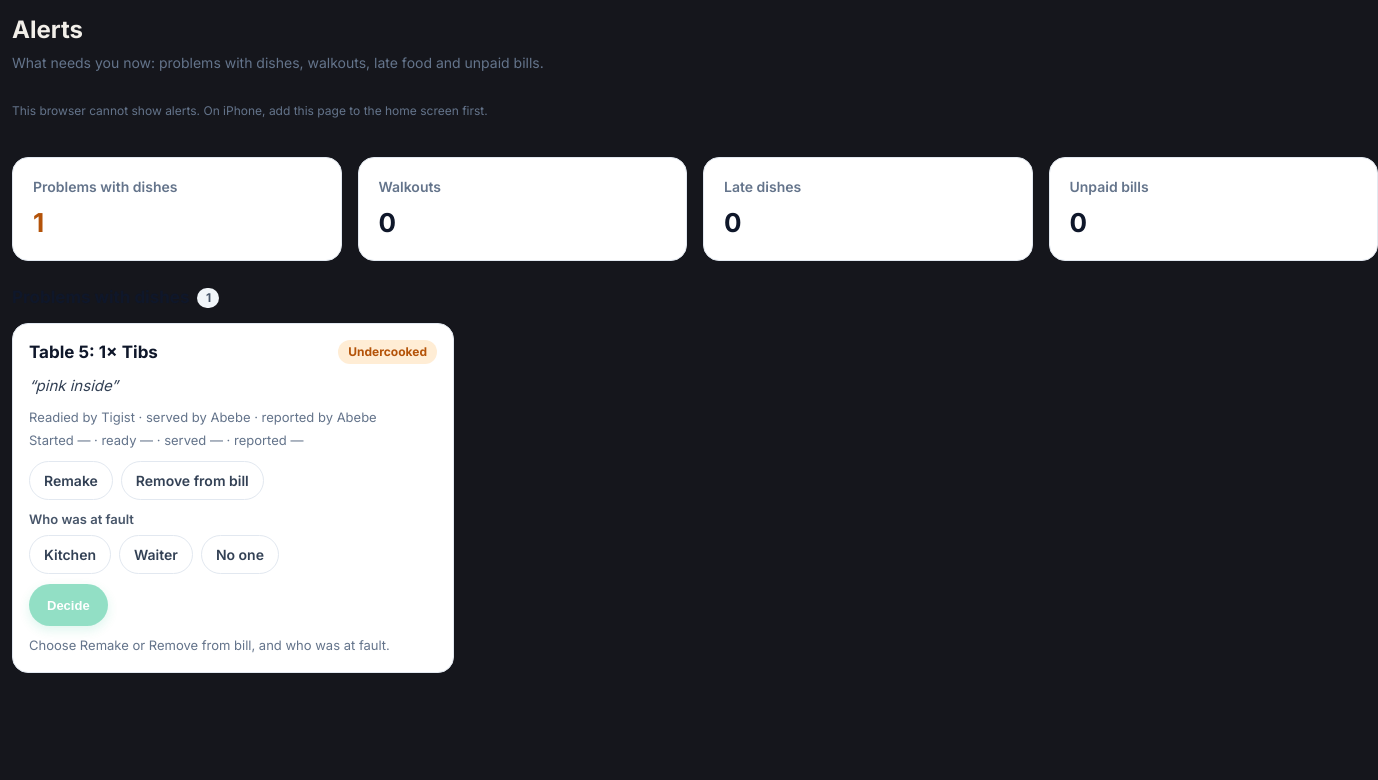
Test case: DecisionsScreen › explains plainly when a paid bill cannot lose a dish
Click the radio button labelled "Remove from bill" at (192, 480), box x1=121 y1=460 x2=264 y2=500
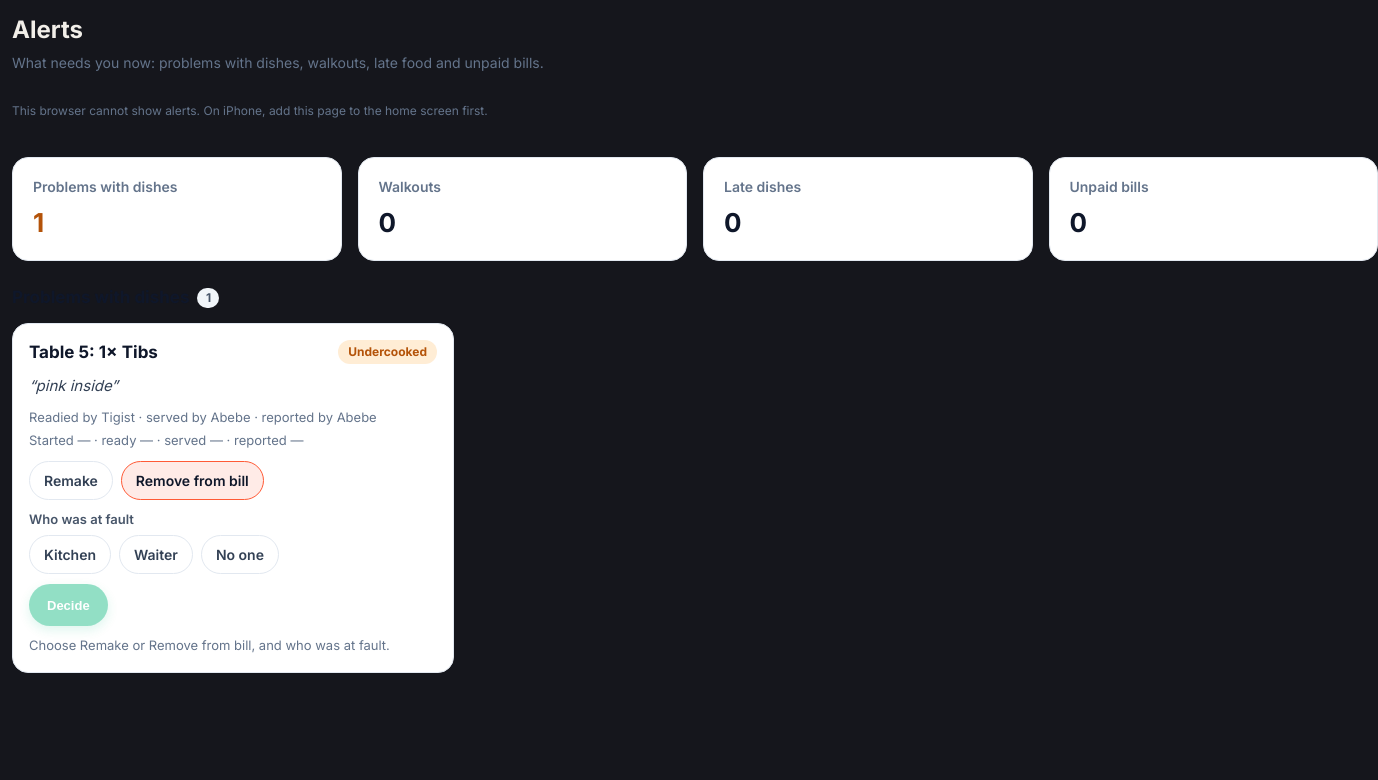
Click the radio button labelled "No one" at (240, 554), box x1=201 y1=535 x2=279 y2=574
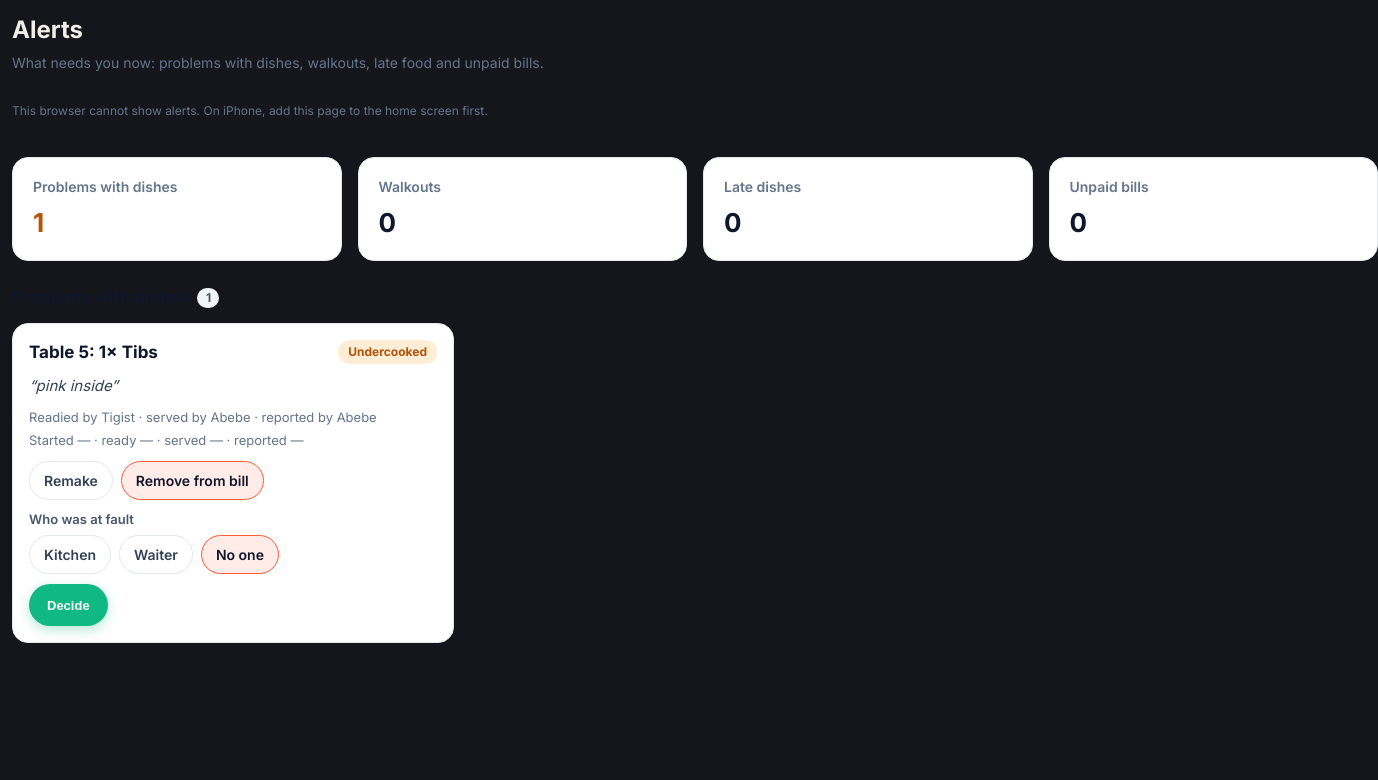
Submit the form with test id "problem-p1", box x1=12 y1=322 x2=454 y2=643
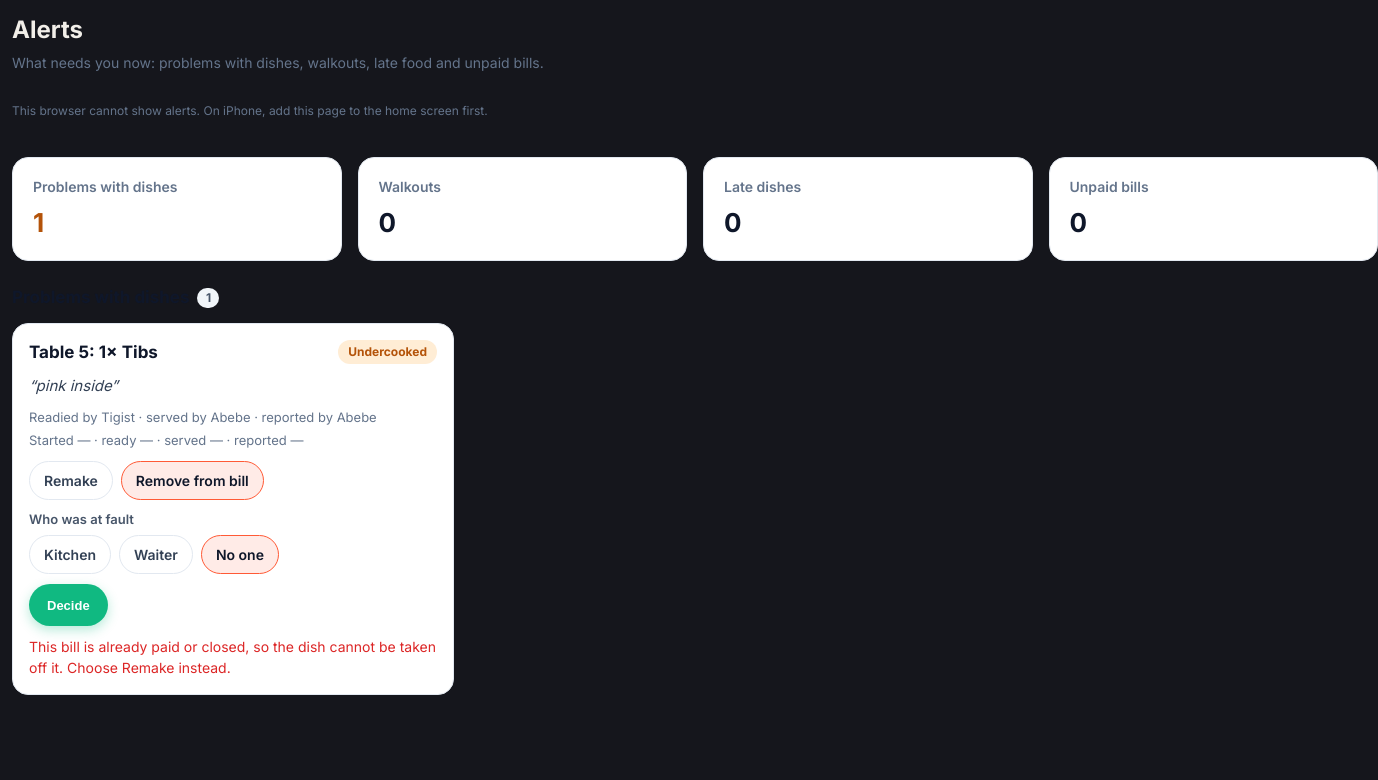
Now the 2nd message shows "This bill is already paid or closed, so the dish cannot be taken off it. Choose Remake instead.", box x1=29 y1=638 x2=436 y2=676
